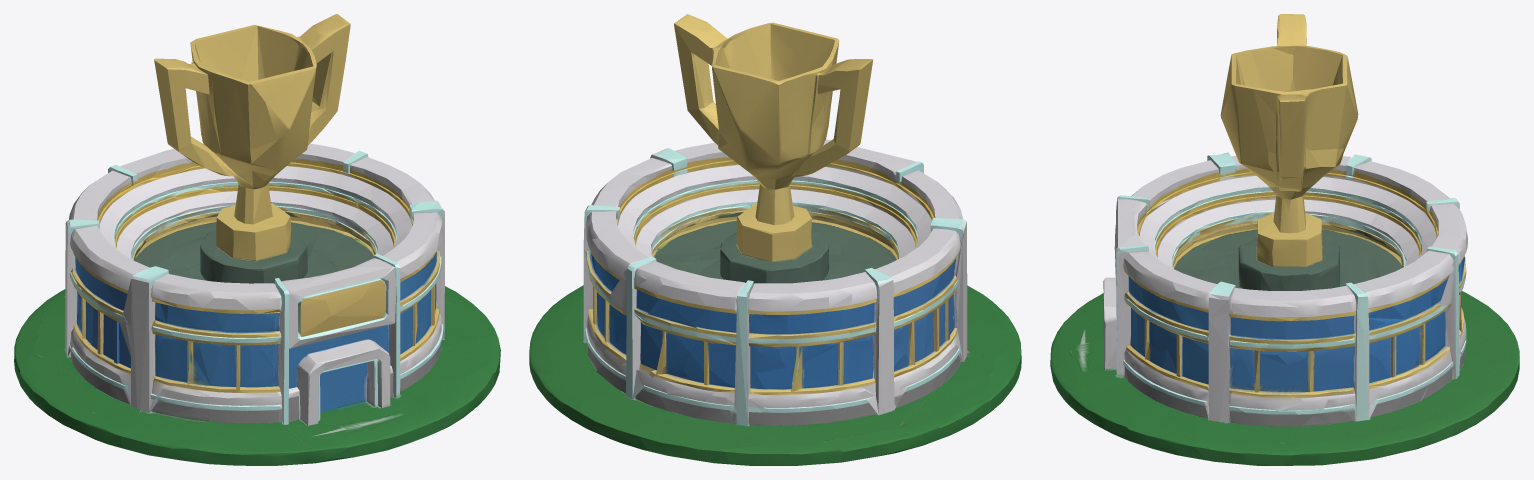
The model's file is contest.glb.
3 views of the same model, side by side, from view 1: azimuth 30°, elevation 25°; view 2: azimuth 150°, elevation 25°; view 3: azimuth 270°, elevation 25° (orthographic). The views are drawn at different scales.
Parts seen in each view (by area): view 1: Mesh_0; view 2: Mesh_0; view 3: Mesh_0.
Boxes of the visible parts, x1,y1,x2,y2 form: Mesh_0: (14,14,500,465); Mesh_0: (529,14,1021,465); Mesh_0: (1050,14,1519,465).
Bounding box in the file's own units: 1.9 × 1.39 × 1.9.
1 material, 1 textured.
